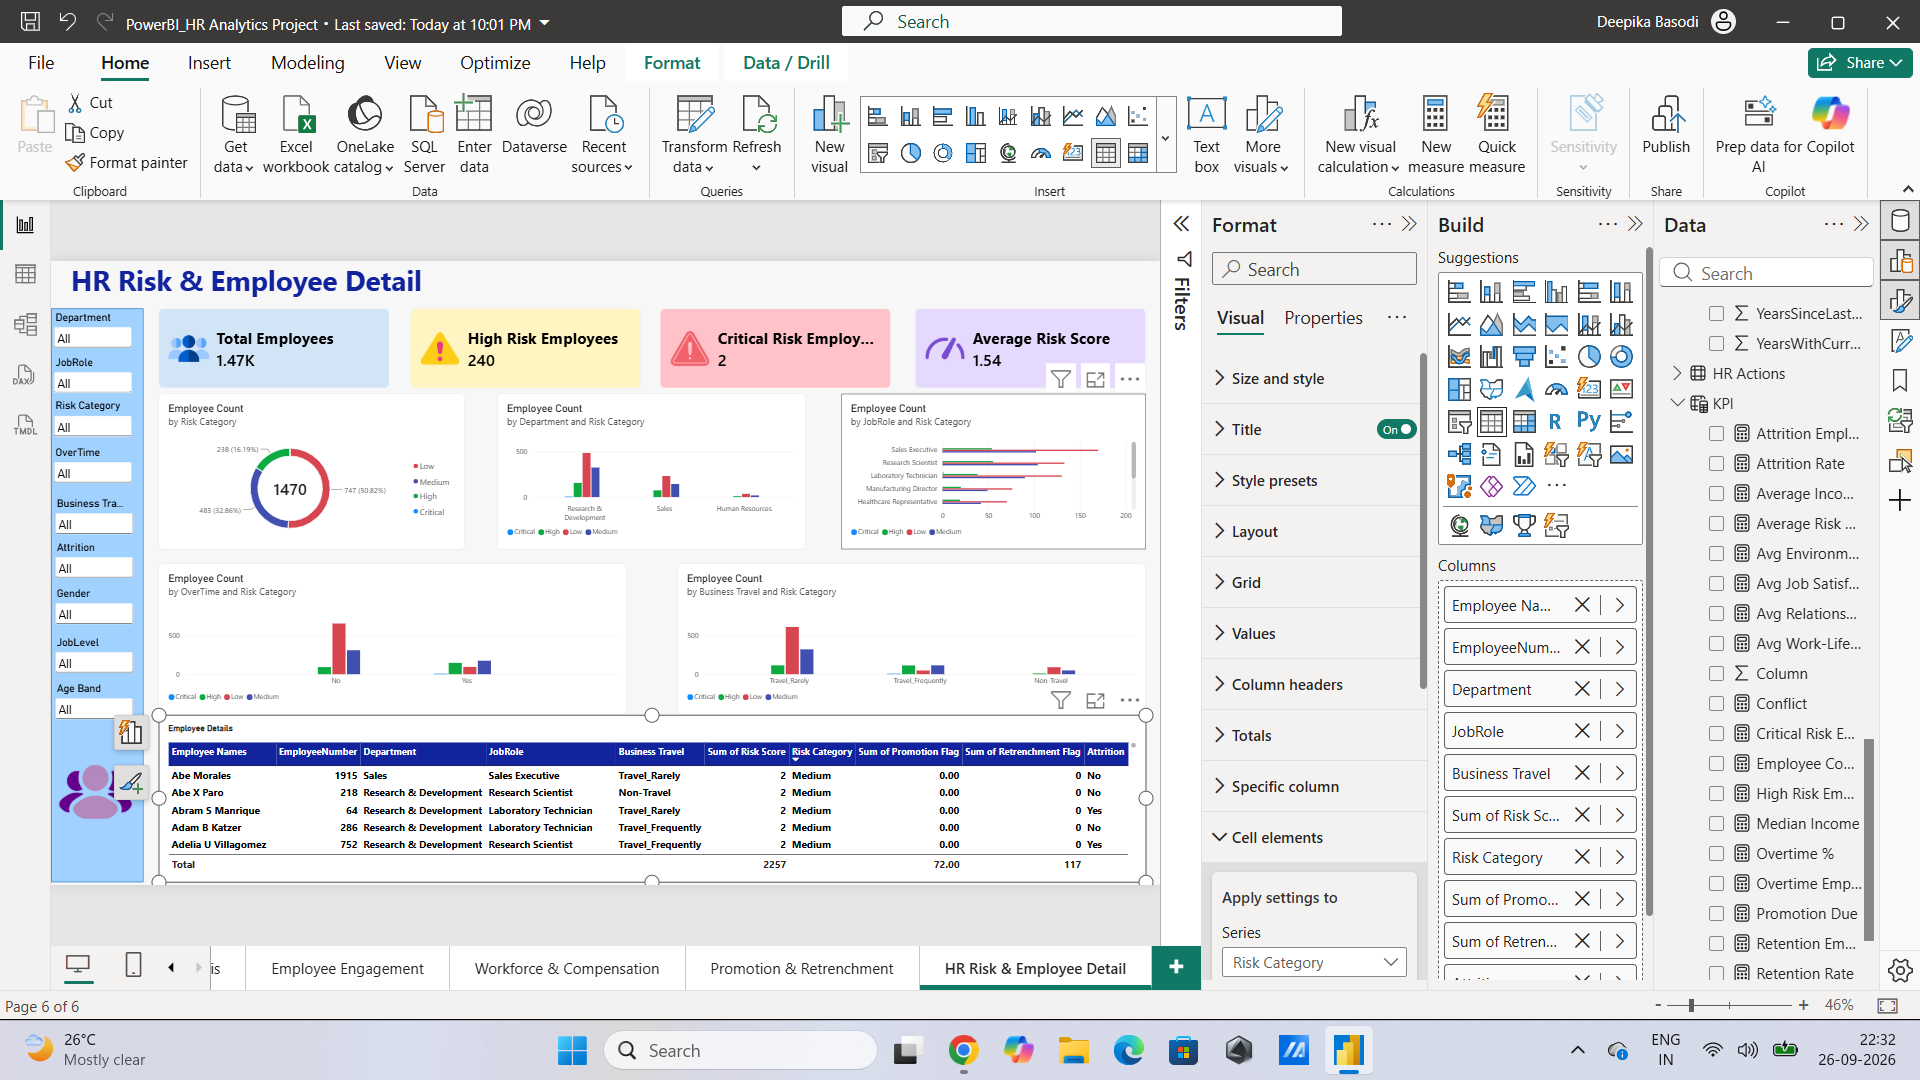

The page's visual inventory and layout, read from the dashboard file:
{"tool":"powerbi","page":{"name":"HR Risk & Employee Detail","canvas":[1920,1080],"ordinal":5},"visuals":[{"type":"shape","box":[0,82.2,160.1,993.3],"z":0},{"type":"textbox","box":[34.6,0,660.1,67.1],"z":1000},{"type":"slicer","fields":{"Values":["HR.Department"]},"box":[0,86.6,145,110.4],"z":2000},{"type":"slicer","fields":{"Values":["HR.JobRole"]},"box":[0,164.5,145,110.4],"z":3000},{"type":"slicer","fields":{"Values":["HR.Risk Category"]},"box":[0,240.2,145,110.4],"z":4000},{"type":"slicer","fields":{"Values":["HR.OverTime"]},"box":[0,320.3,145,110.4],"z":5000},{"type":"slicer","fields":{"Values":["HR.Business Travel"]},"box":[2.2,409,145,110.4],"z":6000},{"type":"slicer","fields":{"Values":["HR.Attrition"]},"box":[2.2,484.8,145,110.4],"z":7000},{"type":"slicer","fields":{"Values":["HR.Gender"]},"box":[2.2,564.8,145,110.4],"z":8000},{"type":"slicer","fields":{"Values":["HR.JobLevel"]},"box":[2.2,649.2,145,110.4],"z":9000},{"type":"slicer","fields":{"Values":["HR.Age Band"]},"box":[2.2,729.3,145,110.4],"z":10000},{"type":"image","box":[13,839.7,127.7,158],"z":11000},{"type":"cardVisual","fields":{"Data":["KPI.Total Employees"]},"box":[186.1,82.2,400.4,138.5],"z":12000},{"type":"cardVisual","fields":{"Data":["KPI.High Risk Employees"]},"box":[621.1,82.2,400.4,138.5],"z":13000},{"type":"cardVisual","fields":{"Data":["KPI.Critical Risk Employees"]},"box":[1053.9,82.2,400.4,138.5],"z":14000},{"type":"cardVisual","fields":{"Data":["KPI.Average Risk Score"]},"box":[1495.4,82.2,400.4,138.5],"z":15000},{"type":"donutChart","fields":{"Category":["HR.Risk Category"],"Y":["KPI.Employee Count"]},"box":[186.1,229.4,530.2,270.5],"z":15001},{"type":"clusteredColumnChart","fields":{"Category":["HR.Department"],"Series":["HR.Risk Category"],"Y":["KPI.Employee Count"]},"box":[772.6,229.4,534.5,270.5],"z":15002},{"type":"clusteredBarChart","fields":{"Category":["HR.JobRole"],"Series":["HR.Risk Category"],"Y":["KPI.Employee Count"]},"box":[1367.7,229.4,528.1,270.5],"z":15003},{"type":"clusteredColumnChart","fields":{"Category":["HR.OverTime"],"Series":["HR.Risk Category"],"Y":["KPI.Employee Count"]},"box":[186.1,523.7,811.6,261.9],"z":15004},{"type":"clusteredColumnChart","fields":{"Category":["HR.Business Travel"],"Series":["HR.Risk Category"],"Y":["KPI.Employee Count"]},"box":[1084.2,523.7,811.6,261.9],"z":15005},{"type":"tableEx","title":"Employee Details","fields":{"Values":["HR.Employee Names","HR.EmployeeNumber","HR.Department","HR.JobRole","Sum(HR.MonthlyIncome)","HR.OverTime","Sum(HR.JobSatisfaction)","Sum(HR.EnvironmentSatisfaction)","Sum(HR.WorkLifeBalance)","HR.Business Travel","Sum(HR.Risk Score)","HR.Risk Category"]},"box":[186.1,785.6,1709.7,290],"z":15006}]}

Visuals, with their boxes on the page's 1920x1080 design canvas (x1, y1, x2, y2). These are canvas units, not pixel positions in the 1920x1080 screenshot, which may show the page scaled, cropped or inside an application window:
shape: {"left": 0, "top": 82, "right": 160, "bottom": 1076}
textbox: {"left": 35, "top": 0, "right": 695, "bottom": 67}
slicer - HR.Department: {"left": 0, "top": 87, "right": 145, "bottom": 197}
slicer - HR.JobRole: {"left": 0, "top": 164, "right": 145, "bottom": 275}
slicer - HR.Risk Category: {"left": 0, "top": 240, "right": 145, "bottom": 351}
slicer - HR.OverTime: {"left": 0, "top": 320, "right": 145, "bottom": 431}
slicer - HR.Business Travel: {"left": 2, "top": 409, "right": 147, "bottom": 519}
slicer - HR.Attrition: {"left": 2, "top": 485, "right": 147, "bottom": 595}
slicer - HR.Gender: {"left": 2, "top": 565, "right": 147, "bottom": 675}
slicer - HR.JobLevel: {"left": 2, "top": 649, "right": 147, "bottom": 760}
slicer - HR.Age Band: {"left": 2, "top": 729, "right": 147, "bottom": 840}
image: {"left": 13, "top": 840, "right": 141, "bottom": 998}
cardVisual - KPI.Total Employees: {"left": 186, "top": 82, "right": 586, "bottom": 221}
cardVisual - KPI.High Risk Employees: {"left": 621, "top": 82, "right": 1022, "bottom": 221}
cardVisual - KPI.Critical Risk Employees: {"left": 1054, "top": 82, "right": 1454, "bottom": 221}
cardVisual - KPI.Average Risk Score: {"left": 1495, "top": 82, "right": 1896, "bottom": 221}
donutChart - HR.Risk Category x KPI.Employee Count: {"left": 186, "top": 229, "right": 716, "bottom": 500}
clusteredColumnChart - HR.Department x HR.Risk Category: {"left": 773, "top": 229, "right": 1307, "bottom": 500}
clusteredBarChart - HR.JobRole x HR.Risk Category: {"left": 1368, "top": 229, "right": 1896, "bottom": 500}
clusteredColumnChart - HR.OverTime x HR.Risk Category: {"left": 186, "top": 524, "right": 998, "bottom": 786}
clusteredColumnChart - HR.Business Travel x HR.Risk Category: {"left": 1084, "top": 524, "right": 1896, "bottom": 786}
"Employee Details" tableEx: {"left": 186, "top": 786, "right": 1896, "bottom": 1076}
